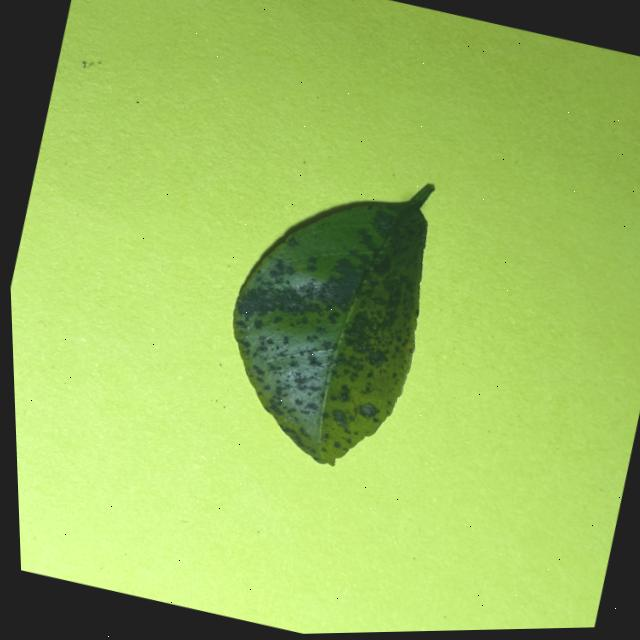sooty_mold: (232, 182, 433, 464)
